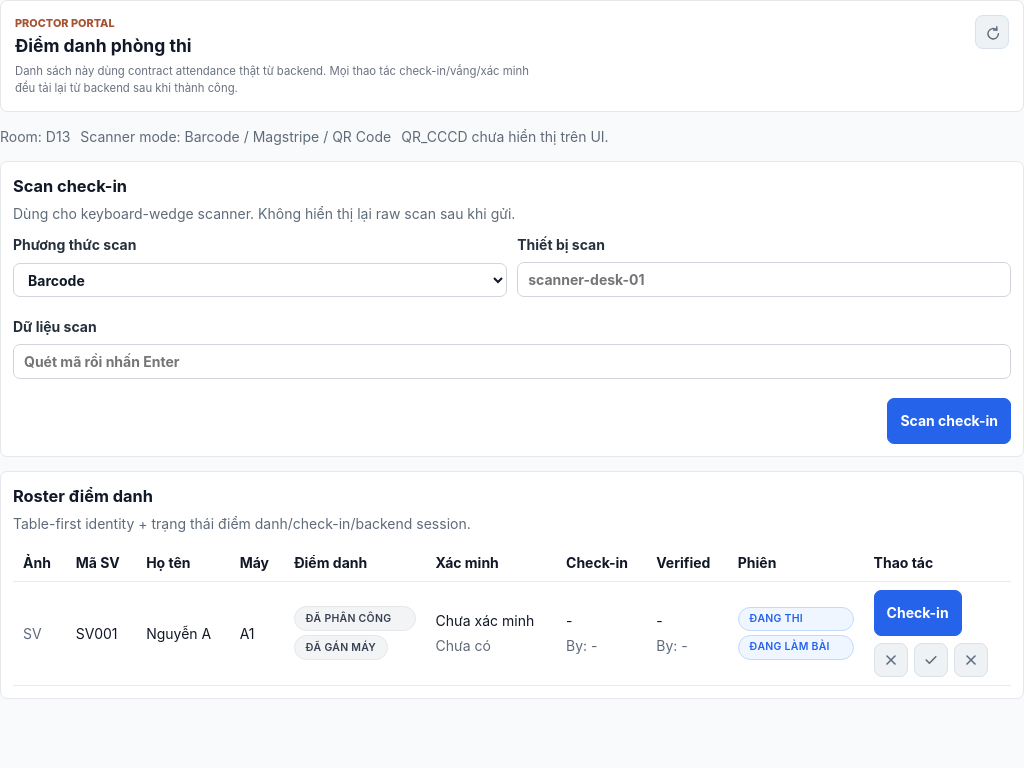
Test: Phase 2B proctor pages › mark absent success refreshes attendance list
Expected: the text "SV001" is shown, [66,581,136,685]
Click the button named "Đánh dấu vắng" at (891, 660), box [874,642,908,676]
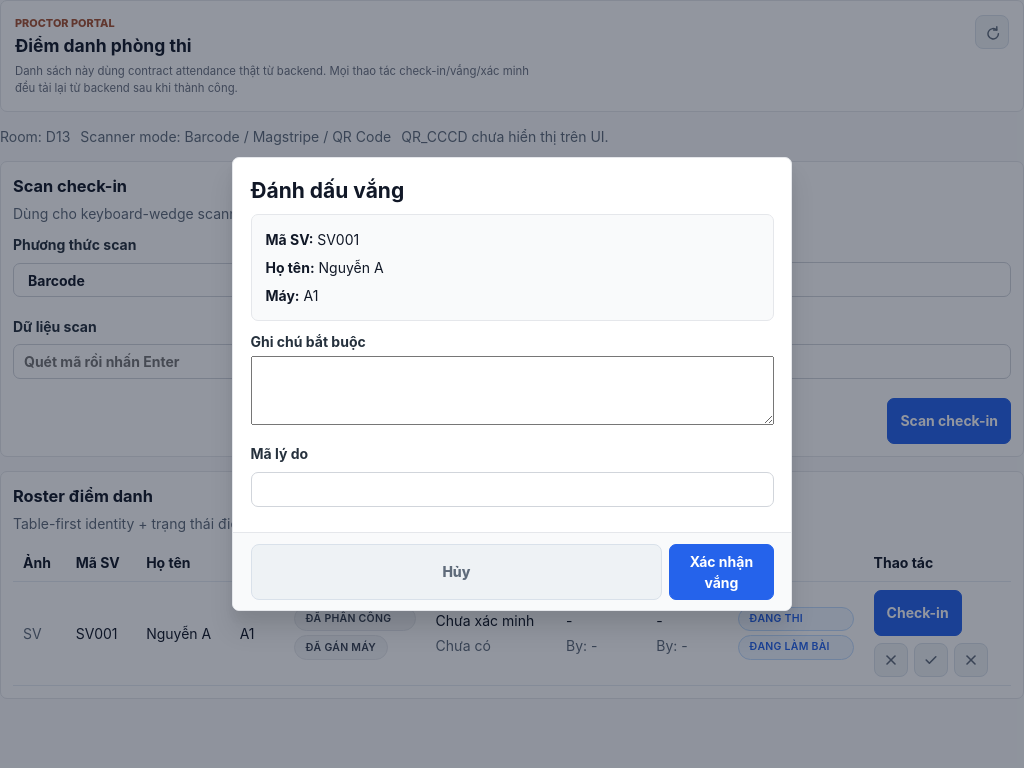
Type "Vắng thi" into the text box labelled "Ghi chú bắt buộc" at (512, 390), box [250,356,774,425]
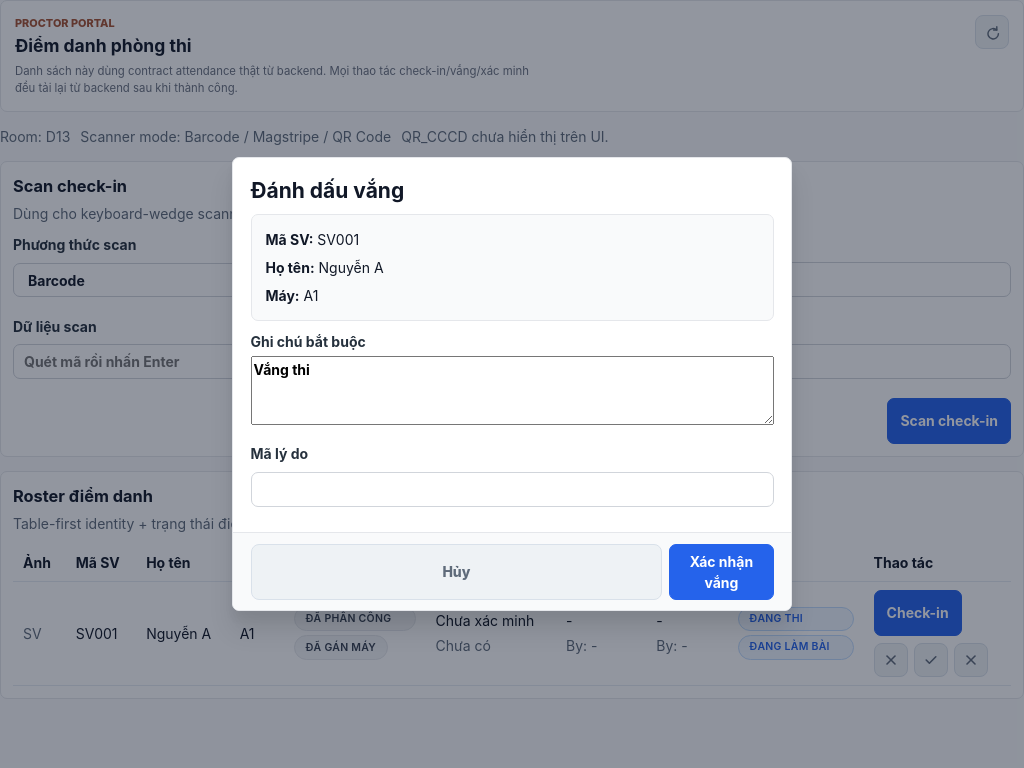
Type "NO_SHOW" into the field labelled "Mã lý do" at (512, 489), box [250,472,774,507]
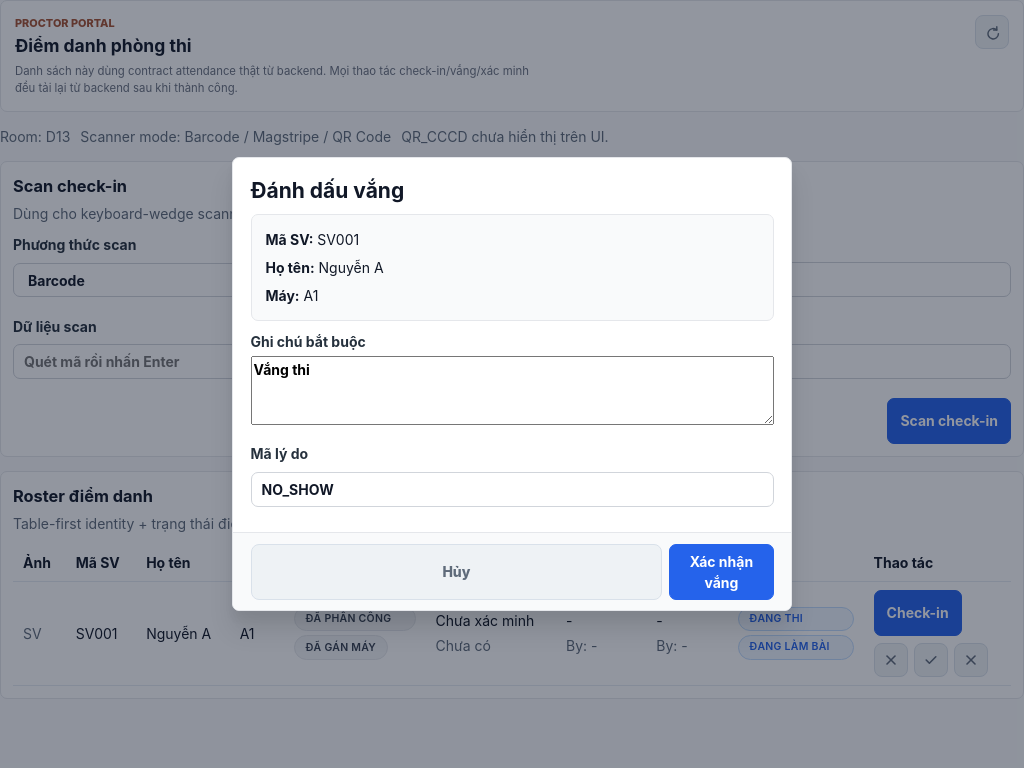
Click the button "Xác nhận vắng" at (721, 572), box [669,544,774,600]
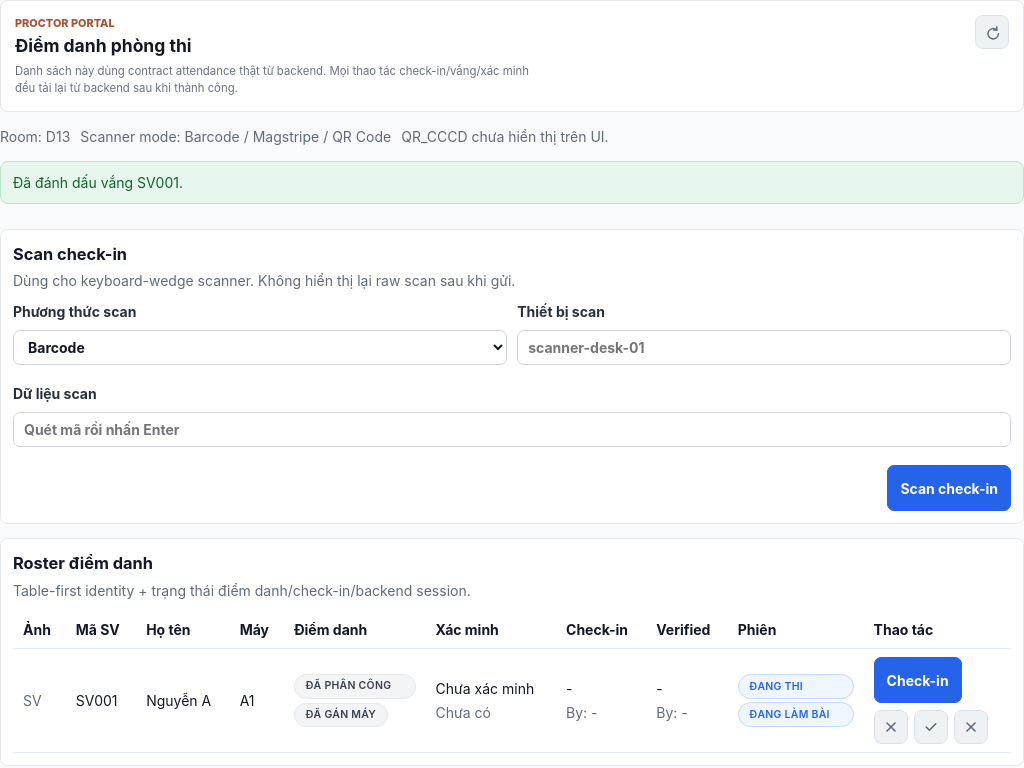
Now the text "Đã đánh dấu vắng SV001." is shown, box [0,161,1023,204]
